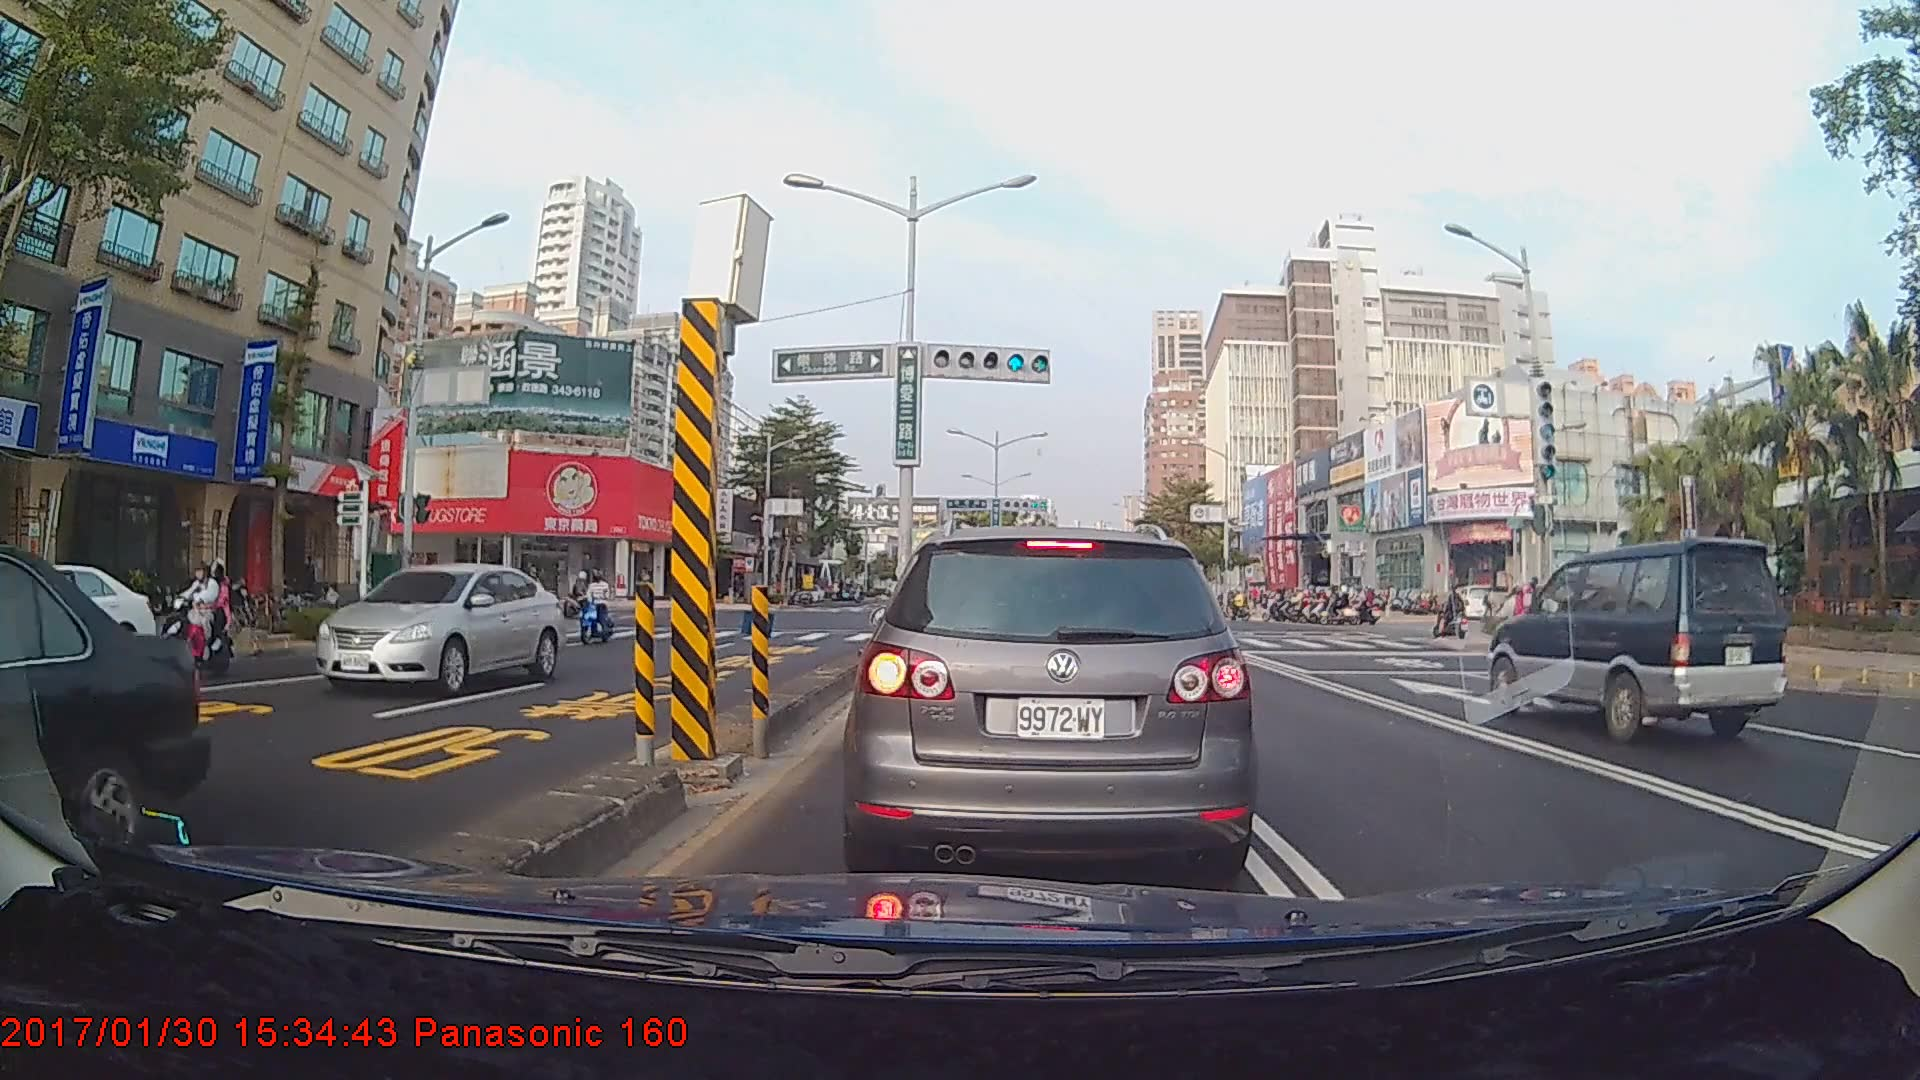rider: (1485, 582, 1548, 668), (1436, 582, 1473, 646)
vehicle: (855, 522, 1252, 871), (0, 536, 212, 936), (1484, 534, 1787, 742), (307, 564, 571, 694), (0, 561, 157, 671)
